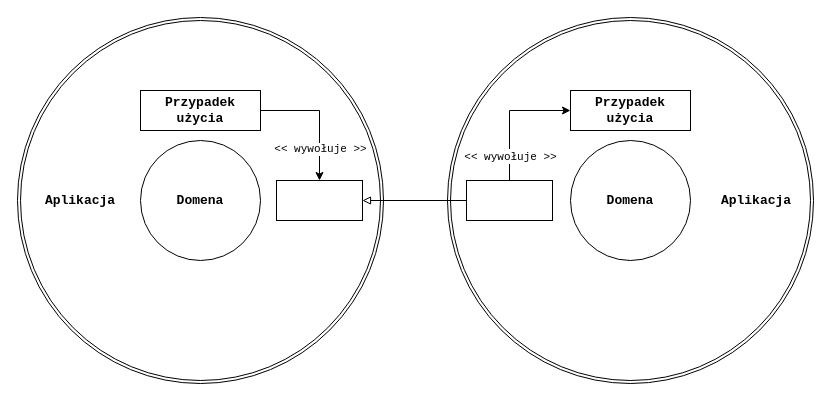
This 831x401 diagram has some shape labels left out. Here are the shapes that lost their labels. From the top down, the centre of each, then its label:
At (x=319, y=200): "Port".
At (x=509, y=200): "Adapter".
